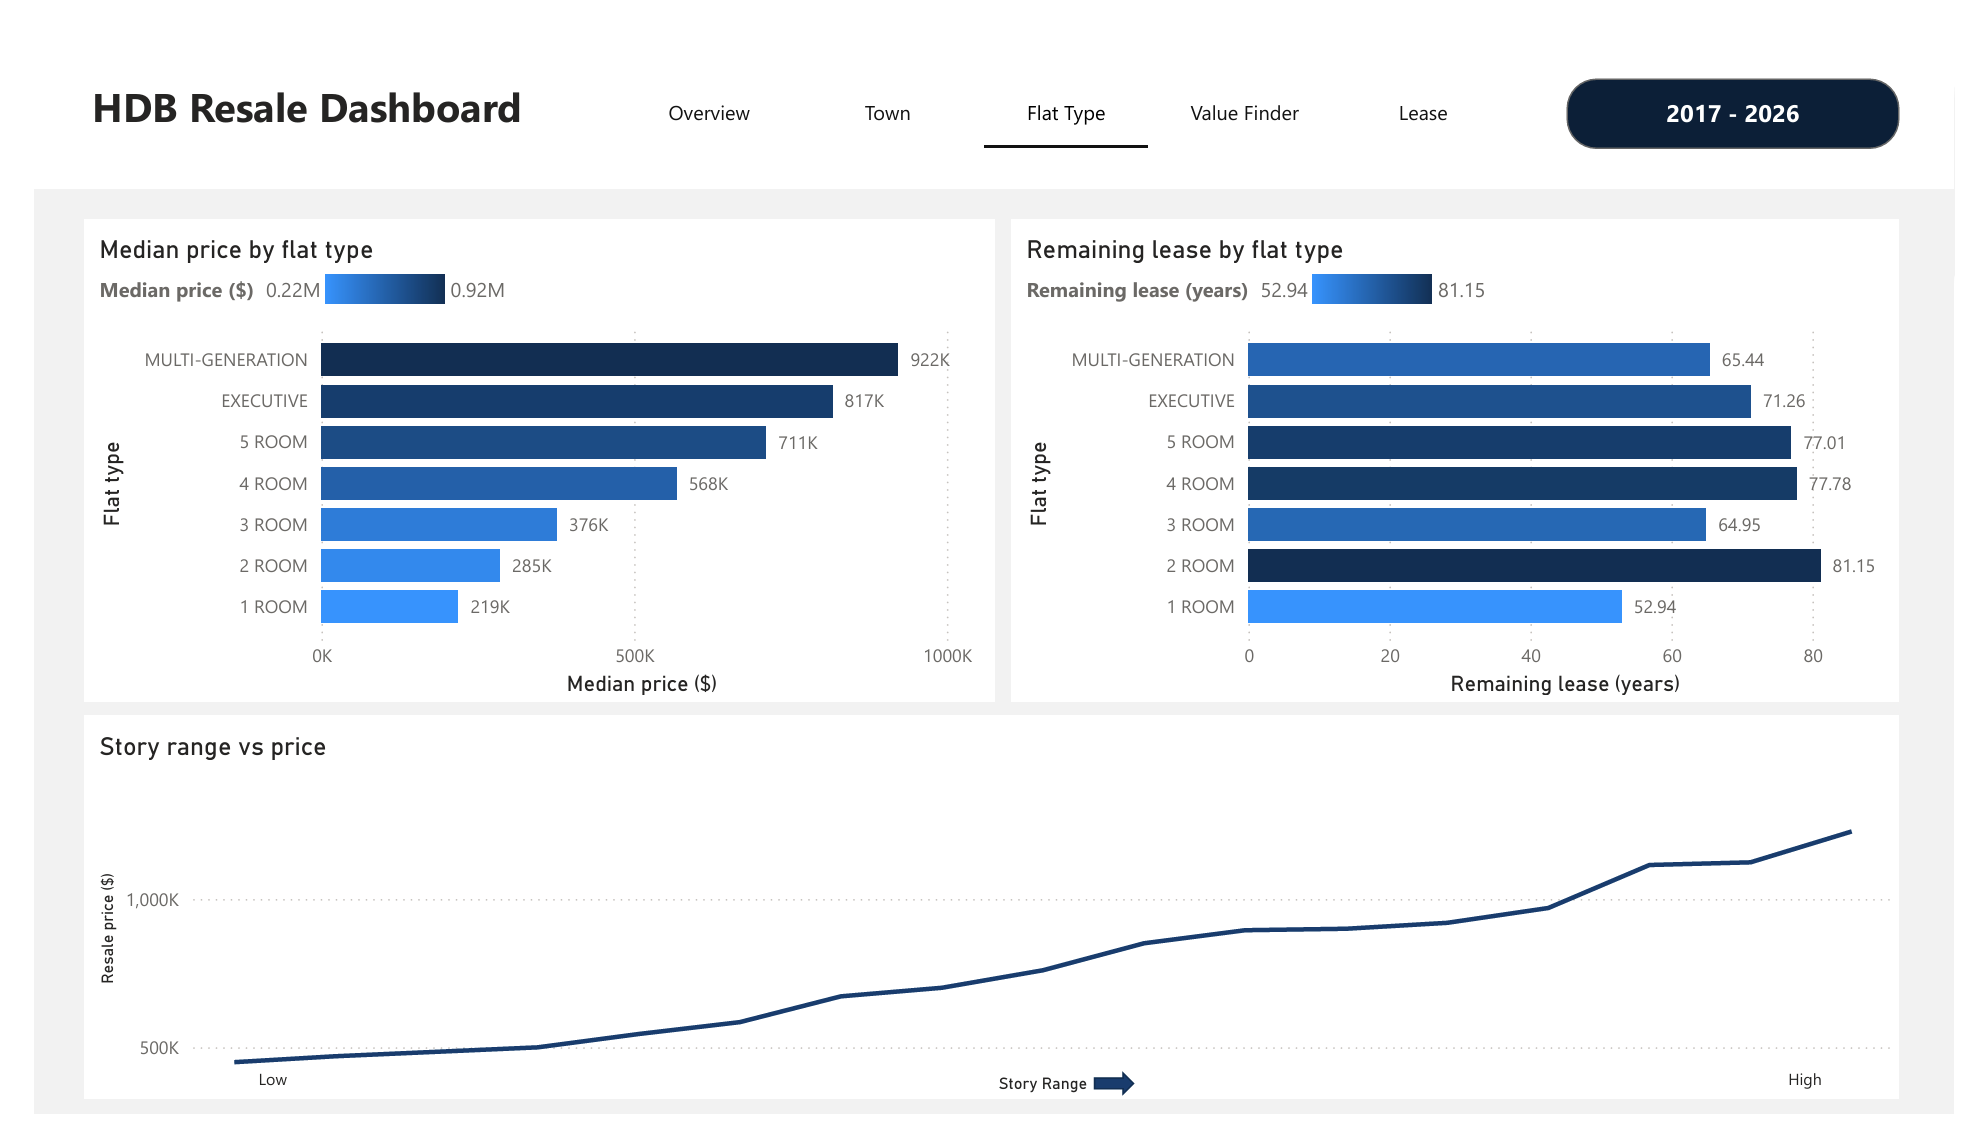

This screenshot's page, from the dashboard's own definition file:
{"tool":"powerbi","page":{"name":"Flat Type","canvas":[1280,720],"ordinal":2},"visuals":[{"type":"shape","box":[0,0,1279.7,103],"z":0},{"type":"textbox","box":[33.3,29.4,361.8,45.1],"z":1000},{"type":"textbox","box":[1020.8,29.4,222.6,47.1],"z":2000},{"type":"clusteredBarChart","title":"Median price by flat type","fields":{"Y":["Avg(public vw_town_summary.median_price)"],"Category":["public vw_town_summary.flat_type"]},"box":[33.2,122.9,606.4,322.4],"z":3000},{"type":"clusteredBarChart","title":"Remaining lease by flat type","fields":{"Category":["public vw_full_detail.flat_type"],"Y":["Avg(public vw_full_detail.remaining_lease_years)"]},"box":[650.8,122.9,592.3,322.4],"z":4000},{"type":"lineChart","title":"Story range vs Resale price","fields":{"Category":["public vw_full_detail.storey_range"],"Y":["Avg(public vw_full_detail.resale_price)"]},"box":[33.2,454.3,1209.8,255.9],"z":5000},{"type":"pageNavigator","box":[395.2,26.5,584.4,50],"z":6000},{"type":"textbox","box":[1147.3,680.5,65.7,29.4],"z":7000},{"type":"textbox","box":[125.5,680.5,65.7,29.4],"z":7001},{"type":"shape","box":[705.9,691.4,27.3,15.5],"z":7002}]}

Visuals, with their boxes in screenshot pixels (x1, y1, x2, y2), scaled from the page's 1280x720 canvas onto the 1986x1143 screenshot:
shape: [left=0, top=0, right=1985, bottom=164]
textbox: [left=52, top=47, right=613, bottom=118]
textbox: [left=1584, top=47, right=1929, bottom=121]
"Median price by flat type" clusteredBarChart: [left=52, top=195, right=992, bottom=707]
"Remaining lease by flat type" clusteredBarChart: [left=1010, top=195, right=1929, bottom=707]
"Story range vs Resale price" lineChart: [left=52, top=721, right=1929, bottom=1127]
pageNavigator: [left=613, top=42, right=1520, bottom=121]
textbox: [left=1780, top=1080, right=1882, bottom=1127]
textbox: [left=195, top=1080, right=297, bottom=1127]
shape: [left=1095, top=1098, right=1138, bottom=1122]
